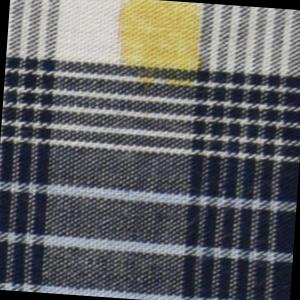Stain: (113, 1, 211, 94)
